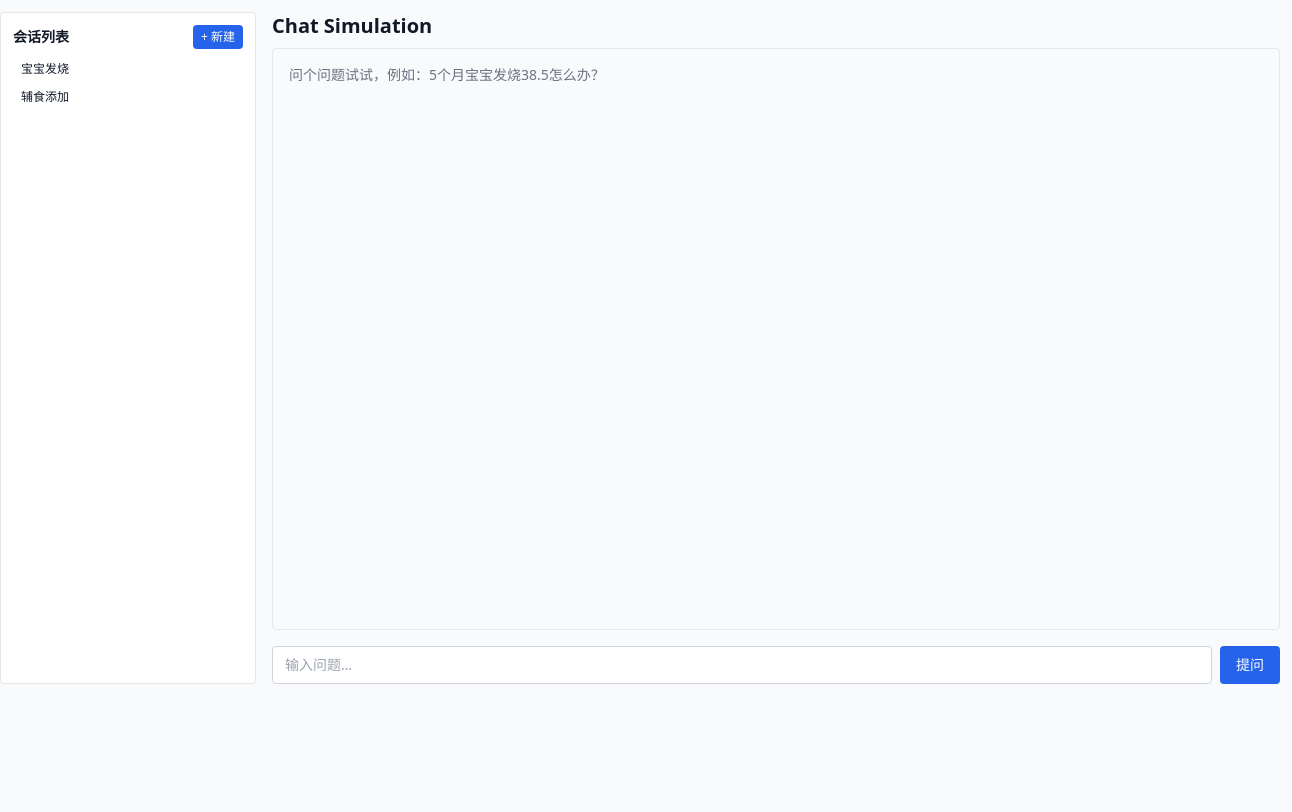
Test case: ChatSim 多 session UI › 点 '+ 新建' 清空 sessionId + messages
# 先切到第一个 session
Step 1. Click the button "宝宝发烧" → (128, 69), box x1=21 y1=61 x2=235 y2=77
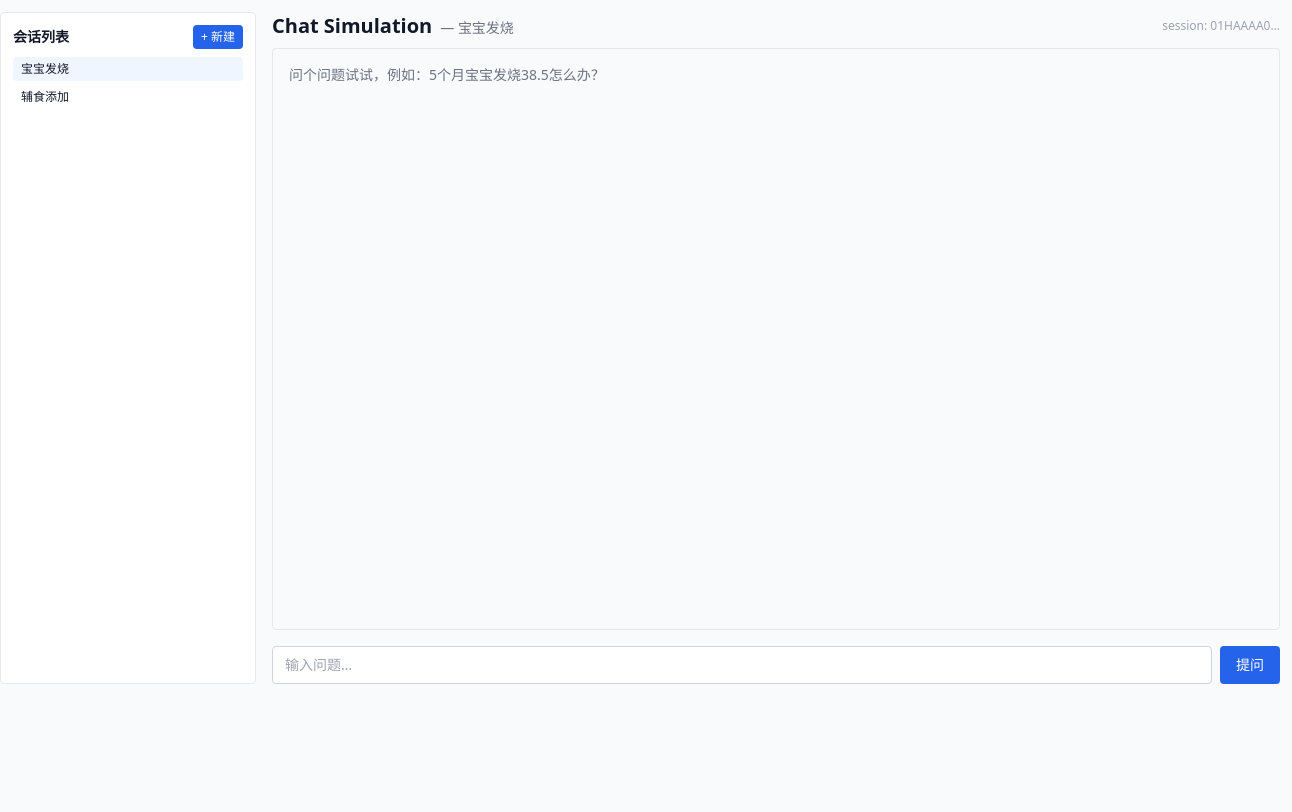
Expected: the text "session: 01HAAAA0…" is shown, x1=1162 y1=18 x2=1280 y2=34
Step 2. Click the button "+ 新建" → (218, 37), box x1=193 y1=25 x2=243 y2=49
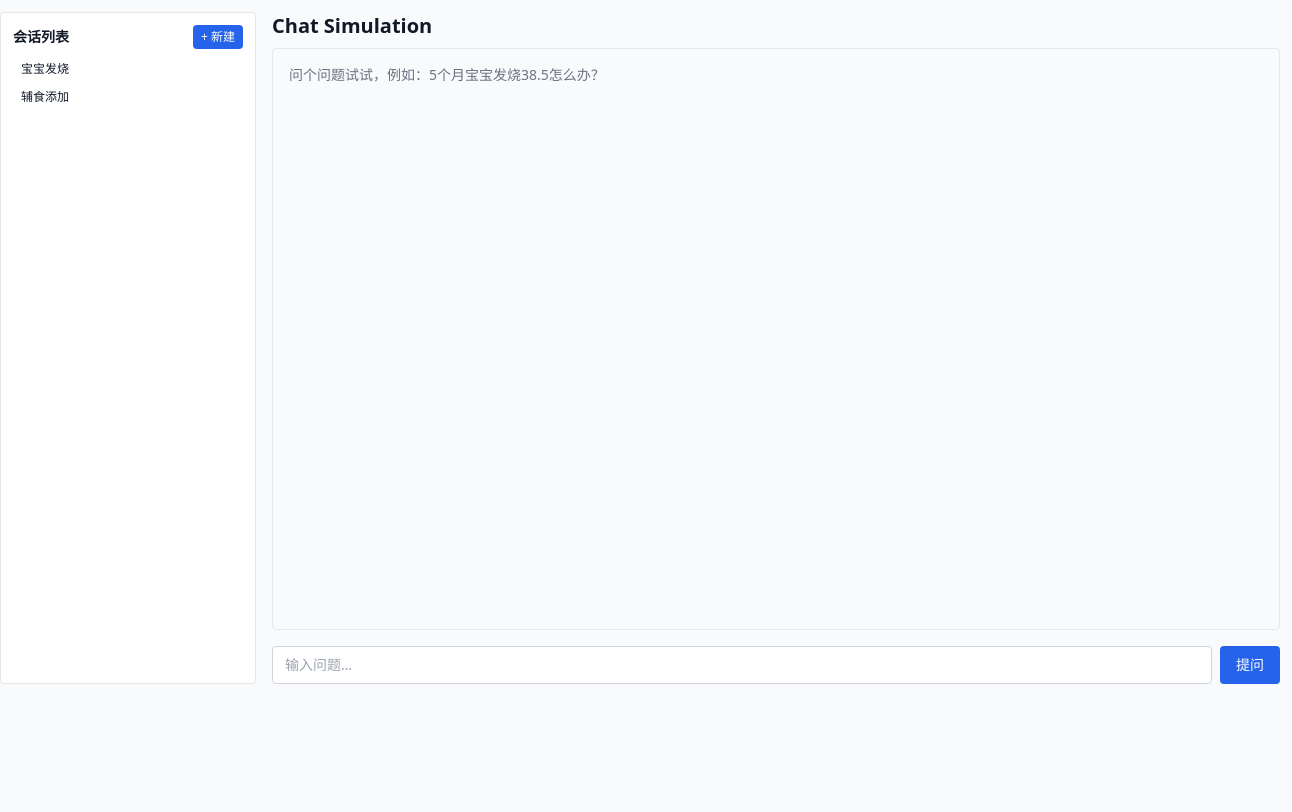
Expected: the text "session: 01HAAAA0" is gone
